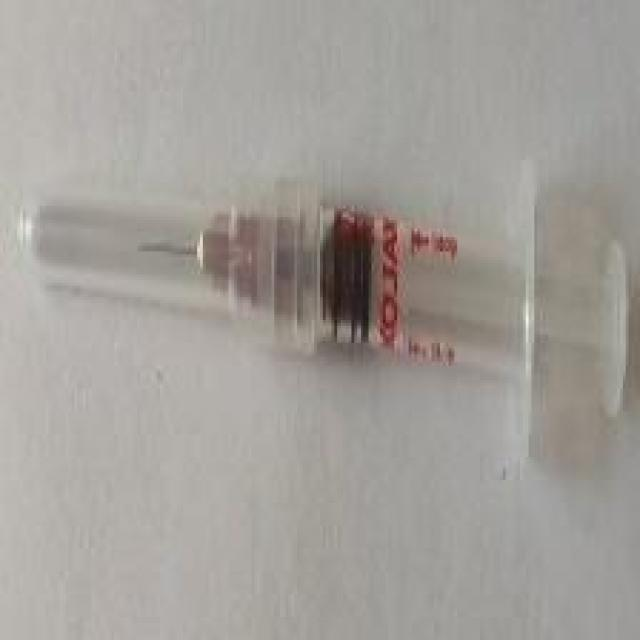syringe: (10, 160, 640, 444)
